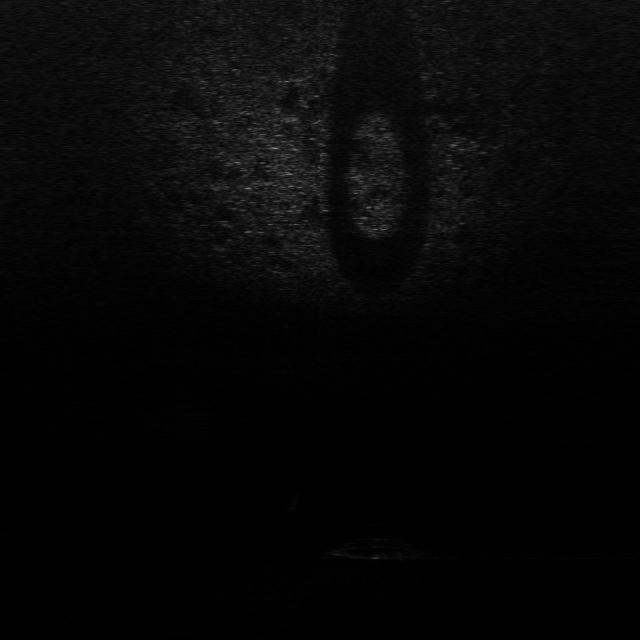tyre: (322, 532, 427, 566)
